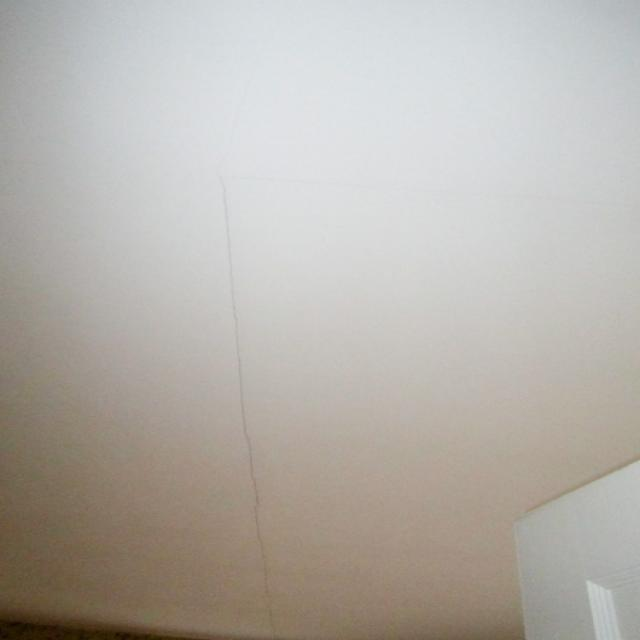Crack: (216, 173, 277, 640)
